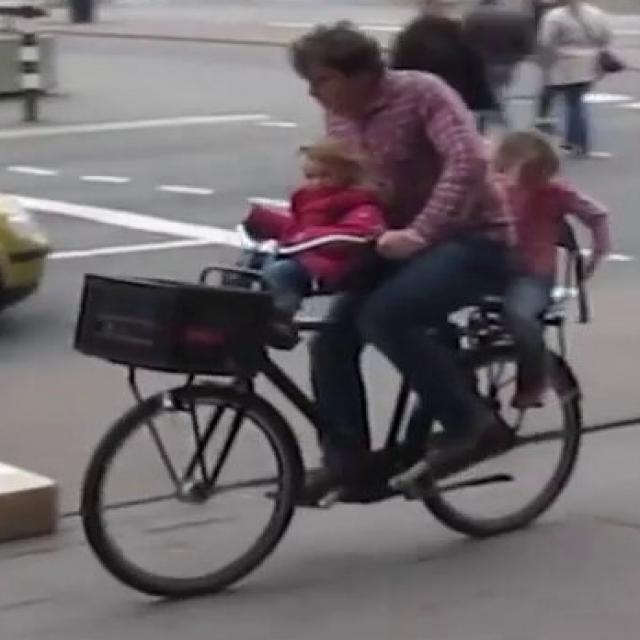car: (48, 198, 606, 602)
